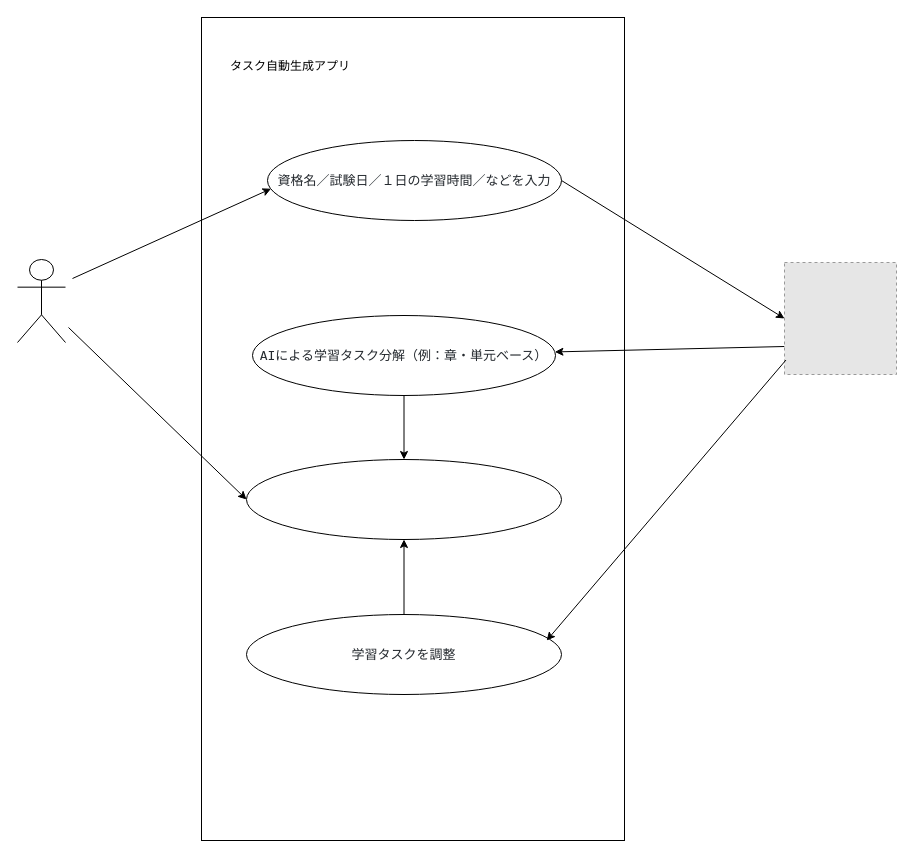
Some shapes in this 914 by 858 pixel diagram are drawn without their labels. Grey dashed boxes stand in for pictures. Here are the shapes that lost their labels. From the top down, the centre of each, then its label:
the point at 41,300: User
the point at 404,499: やるべき学習項目 を遂行
